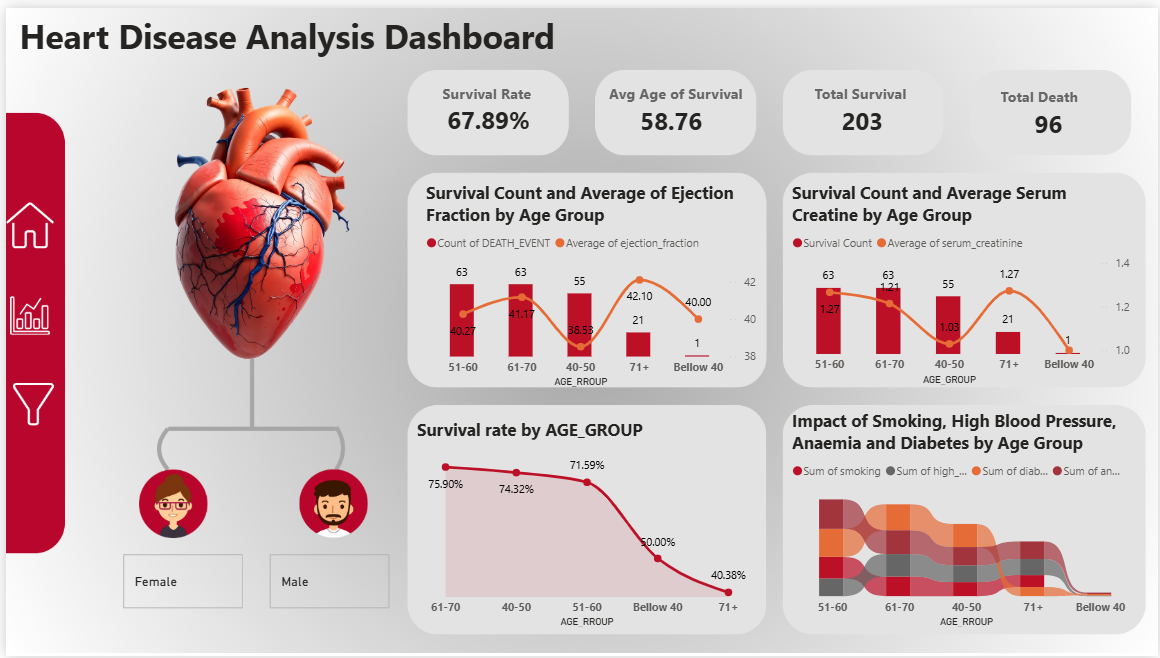

The dashboard page shown, as its layout file describes it:
{"tool":"powerbi","page":{"name":"Page 1","canvas":[1280,720],"ordinal":0},"visuals":[{"type":"textbox","box":[10,0,630,78.6],"z":0},{"type":"card","fields":{"Values":["heart_Disease_clinical_records_.Survival rate"]},"box":[475.7,95.7,121.4,60],"z":1000},{"type":"card","fields":{"Values":["heart_Disease_clinical_records_.Avg_Age_of_Survival"]},"box":[697.1,104.3,84.3,41.4],"z":2000},{"type":"card","fields":{"Values":["heart_Disease_clinical_records_.Total_Survival"]},"box":[908.6,98.6,85.7,54.3],"z":3000},{"type":"card","fields":{"Values":["heart_Disease_clinical_records_.Total_Death"]},"box":[1100,100,115.7,58.6],"z":4000},{"type":"textbox","box":[480,78.6,117.1,34.3],"z":5000},{"type":"textbox","box":[664.3,78.6,202.9,34.3],"z":6000},{"type":"textbox","box":[1100,81.4,145.7,34.3],"z":7000},{"type":"textbox","box":[892.9,78.6,204.3,34.3],"z":8000},{"type":"lineClusteredColumnComboChart","title":"Survival Count  and Average Serum Creatine by Age  Group","fields":{"Category":["heart_Disease_clinical_records_.AGE_RROUP"],"Y":["CountNonNull(heart_Disease_clinical_records_.DEATH_EVENT)"],"Y2":["Avg(heart_Disease_clinical_records_.serum_creatinine)"]},"box":[868.6,191.4,387.1,231.4],"z":9000},{"type":"lineClusteredColumnComboChart","title":"Survival Count and Average of Ejection Fraction by Age Group","fields":{"Category":["heart_Disease_clinical_records_.AGE_RROUP"],"Y":["CountNonNull(heart_Disease_clinical_records_.DEATH_EVENT)"],"Y2":["Avg(heart_Disease_clinical_records_.ejection_fraction)"]},"box":[461.4,191.4,377.1,234.3],"z":9001},{"type":"lineChart","title":"Survival rate by AGE_GROUP","fields":{"Category":["heart_Disease_clinical_records_.AGE_RROUP"],"Y":["heart_Disease_clinical_records_.Survival rate"]},"box":[451.4,455.7,387.1,237.1],"z":9002},{"type":"ribbonChart","title":"Impact of Smoking, High Blood Pressure, Anaemia and Diabetes by Age Group","fields":{"Category":["heart_Disease_clinical_records_.AGE_RROUP"],"Y":["Sum(heart_Disease_clinical_records_.smoking)","Sum(heart_Disease_clinical_records_.high_blood_pressure)","Sum(heart_Disease_clinical_records_.diabetes)","Sum(heart_Disease_clinical_records_.anaemia)"]},"box":[868.6,445.7,397.1,247.1],"z":9003},{"type":"advancedSlicerVisual","fields":{"Values":["heart_Disease_clinical_records_.Gender"]},"box":[124.3,601.4,307.1,70],"z":9004}]}

Visuals, with their boxes in screenshot pixels (x1, y1, x2, y2), scaled from the page's 1280x720 canvas onto the 1160x658 screenshot:
textbox: bbox(9, 0, 580, 72)
card - heart_Disease_clinical_records_.Survival rate: bbox(431, 87, 541, 142)
card - heart_Disease_clinical_records_.Avg_Age_of_Survival: bbox(632, 95, 708, 133)
card - heart_Disease_clinical_records_.Total_Survival: bbox(823, 90, 901, 140)
card - heart_Disease_clinical_records_.Total_Death: bbox(997, 91, 1102, 145)
textbox: bbox(435, 72, 541, 103)
textbox: bbox(602, 72, 786, 103)
textbox: bbox(997, 74, 1129, 106)
textbox: bbox(809, 72, 994, 103)
"Survival Count  and Average Serum Creatine by Age  Group" lineClusteredColumnComboChart: bbox(787, 175, 1138, 386)
"Survival Count and Average of Ejection Fraction by Age Group" lineClusteredColumnComboChart: bbox(418, 175, 760, 389)
"Survival rate by AGE_GROUP" lineChart: bbox(409, 416, 760, 633)
"Impact of Smoking, High Blood Pressure, Anaemia and Diabetes by Age Group" ribbonChart: bbox(787, 407, 1147, 633)
advancedSlicerVisual - heart_Disease_clinical_records_.Gender: bbox(113, 550, 391, 614)
